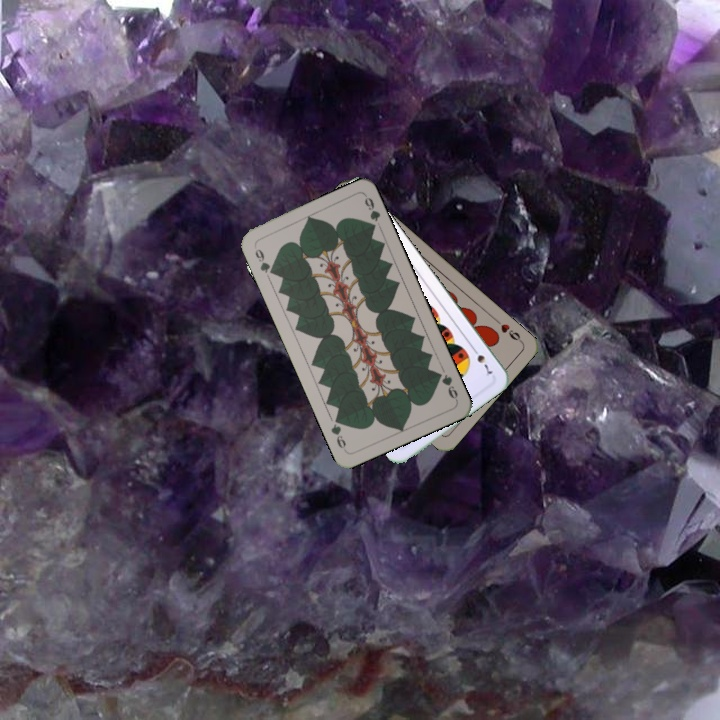G9: (432, 368, 460, 403), (250, 242, 277, 278)
H9: (491, 315, 525, 345)
S7: (468, 343, 495, 379)
